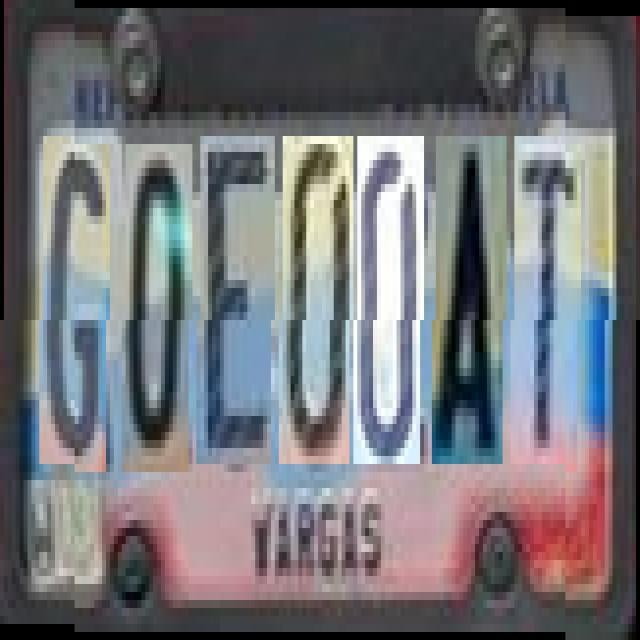0: (282, 136, 354, 464), (357, 136, 424, 464)
A: (436, 136, 506, 464)
E: (200, 136, 275, 464)
G: (43, 144, 110, 472)
O: (126, 144, 192, 472)
T: (514, 136, 581, 464)
